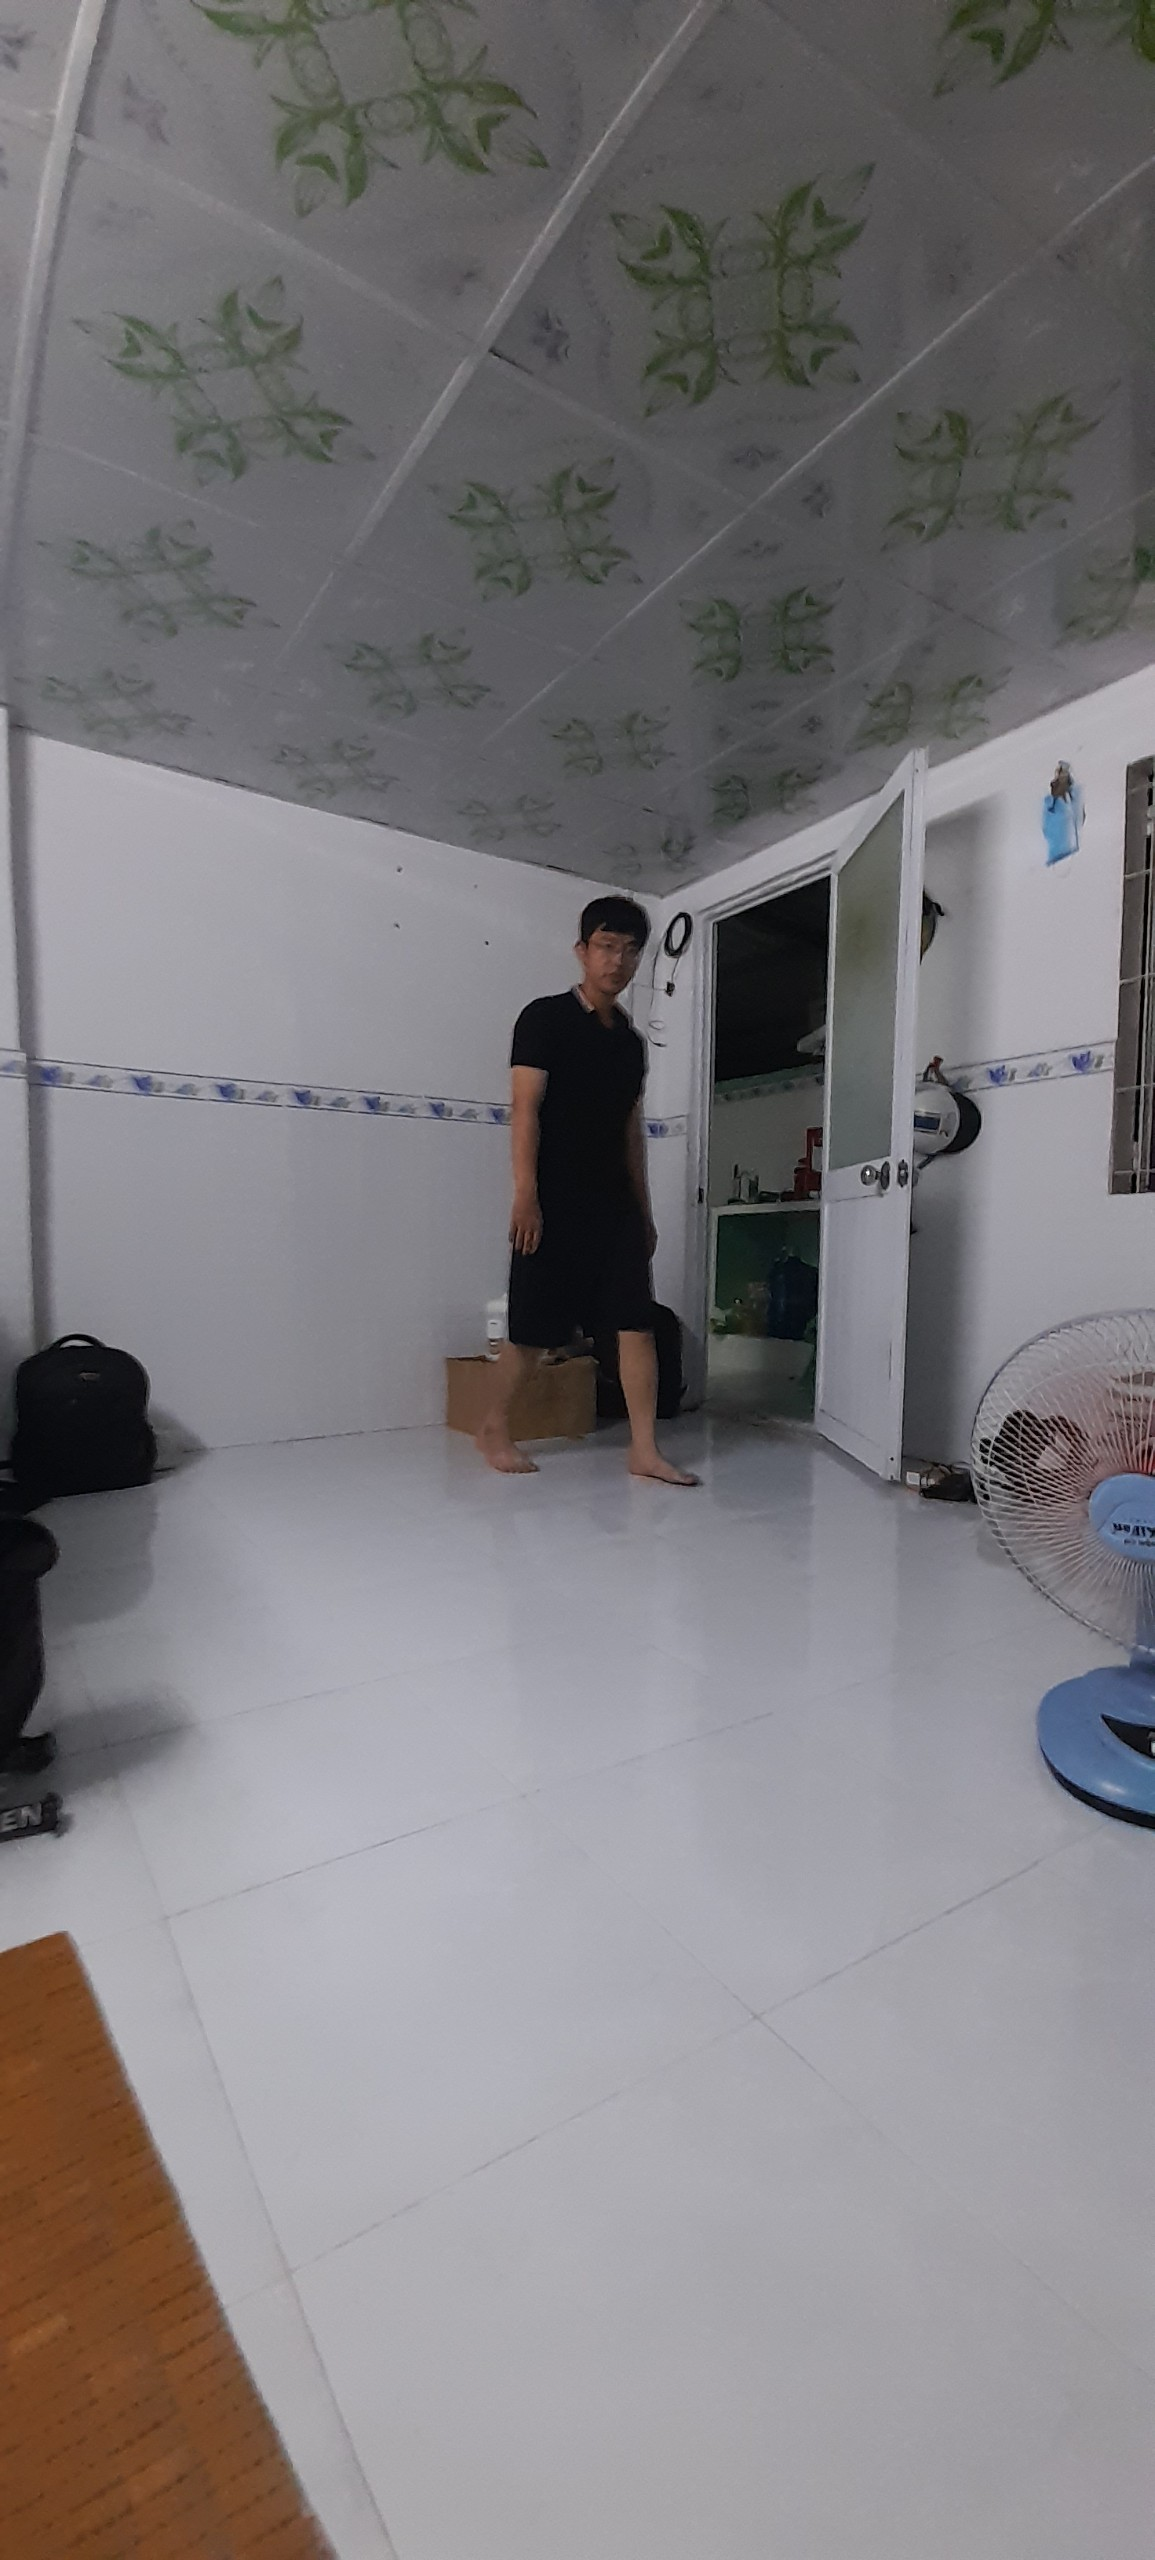person: (495, 895, 689, 1501)
